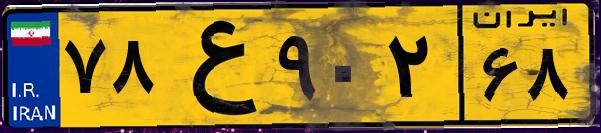0: (330, 28, 385, 110)
2: (385, 28, 445, 110)
6: (475, 38, 525, 113)
7: (57, 26, 110, 100)
8: (525, 38, 570, 115), (110, 28, 158, 98)
9: (270, 28, 330, 110)
ع: (158, 12, 270, 120)
